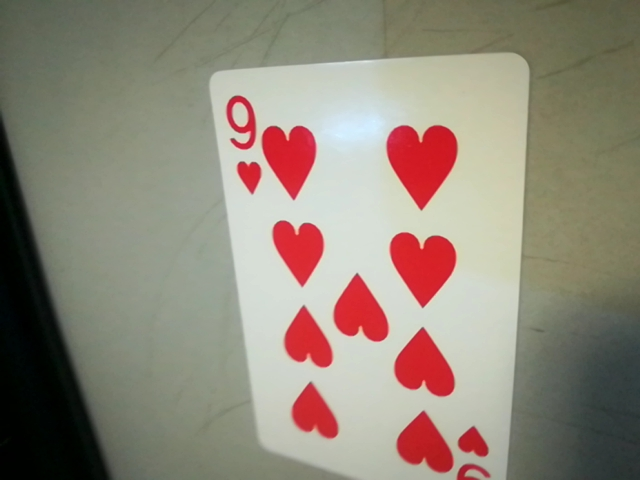hx 9: (212, 88, 272, 198)
